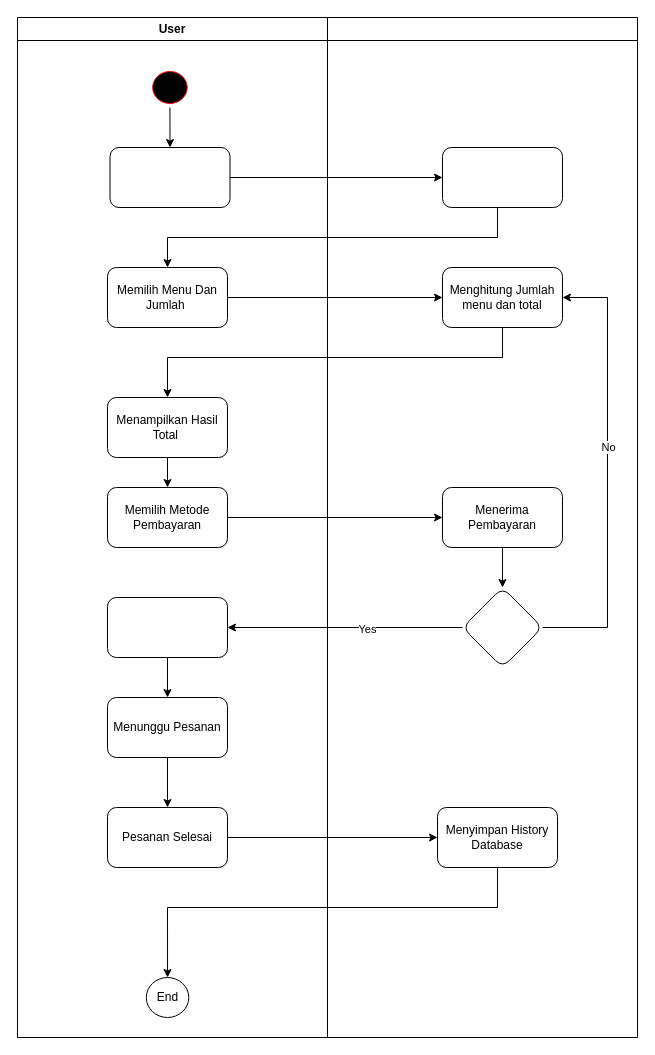
Image size: 655x1055. Some labels were removed from this diagram. Here are the shapes that lost their labels. From the top down, the box of each, then its label:
(109, 146, 230, 208): User Scan Qr yang berada di meja
(442, 146, 562, 208): Menampilkan Menu Makanan Dan Minuman
(326, 16, 638, 1038): Sistem
(106, 596, 228, 658): Menampilkan Struk Pembayaran
(462, 586, 542, 668): Validasi
